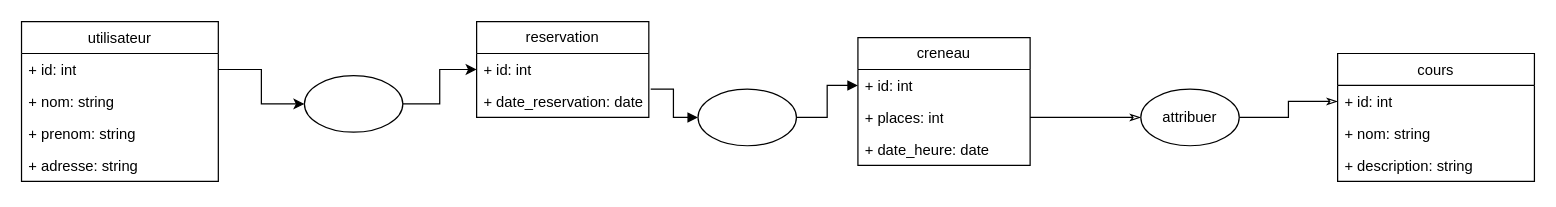
Image size: 1556x207. Some labels were removed from this diagram. The centre of each missing label's shape, as x and y in pixels:
"posseder" belongs at [746,117].
"reserver" belongs at [353,103].
